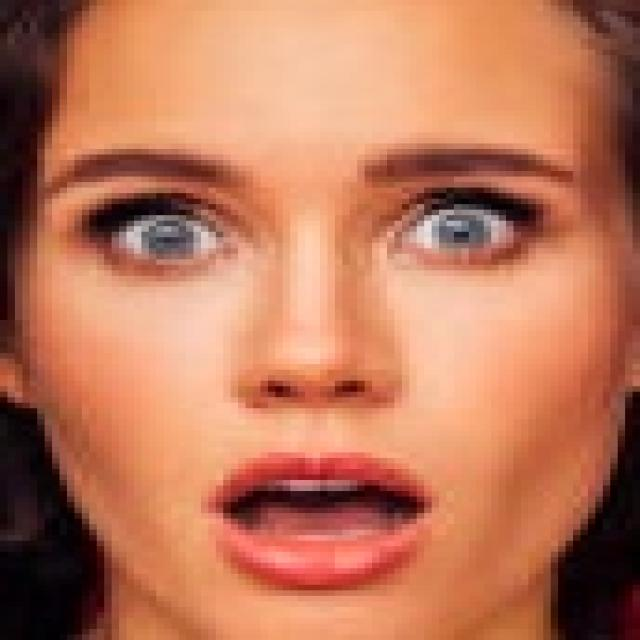Anxiety: (0, 0, 633, 634)
